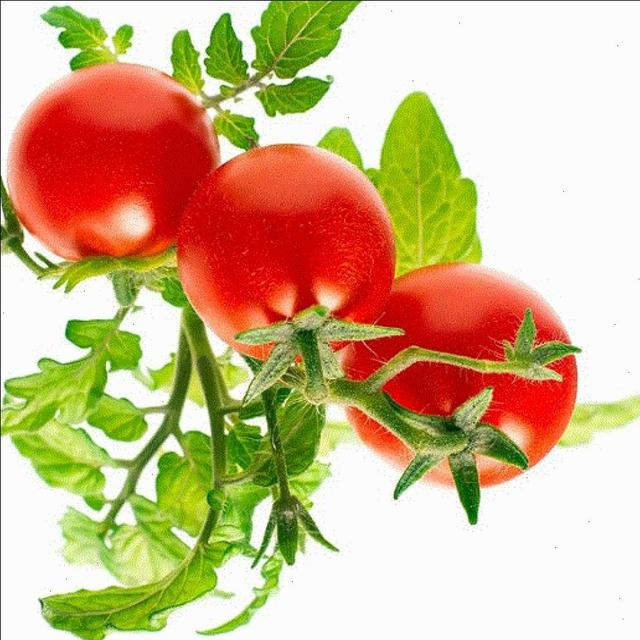Healthy Fruit: (75, 111, 310, 246)
